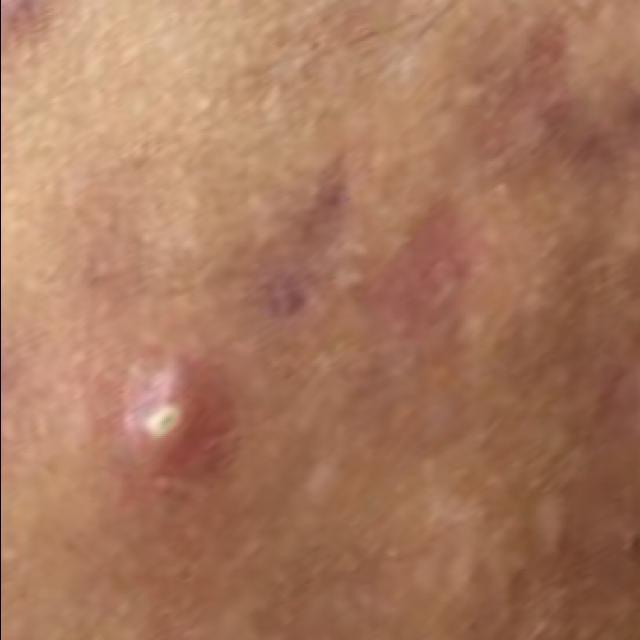acne: (434, 37, 640, 219), (224, 131, 344, 348), (109, 342, 245, 526)
